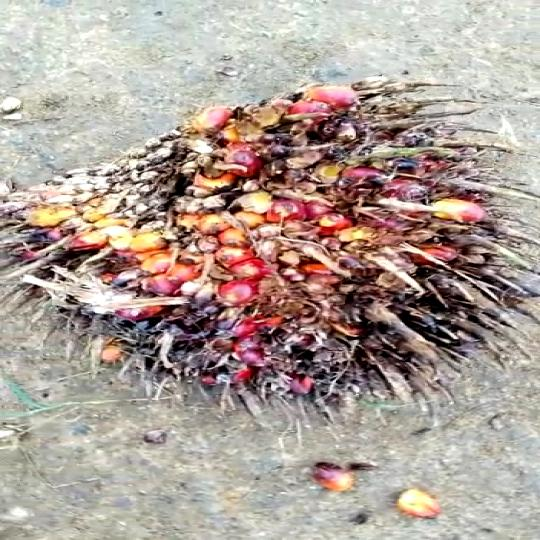terlalu masak: (0, 76, 525, 411)
